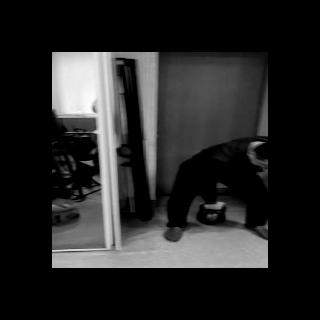kettlebell: (197, 203, 228, 226)
